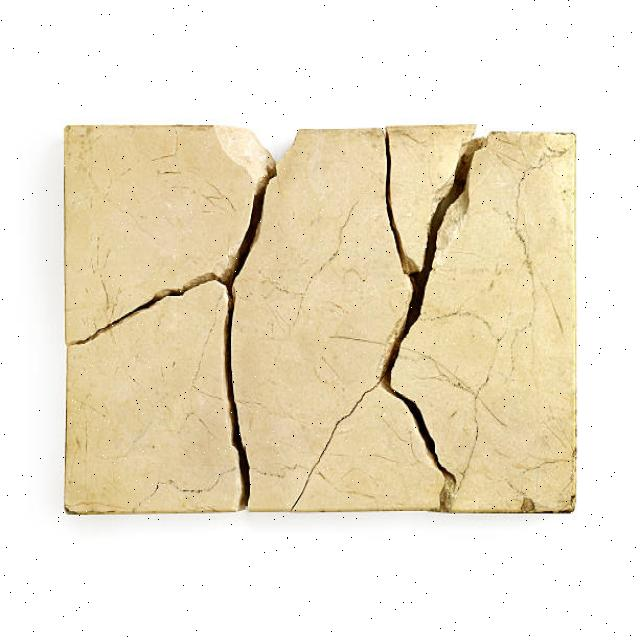Metamorphic: (62, 120, 580, 518)
